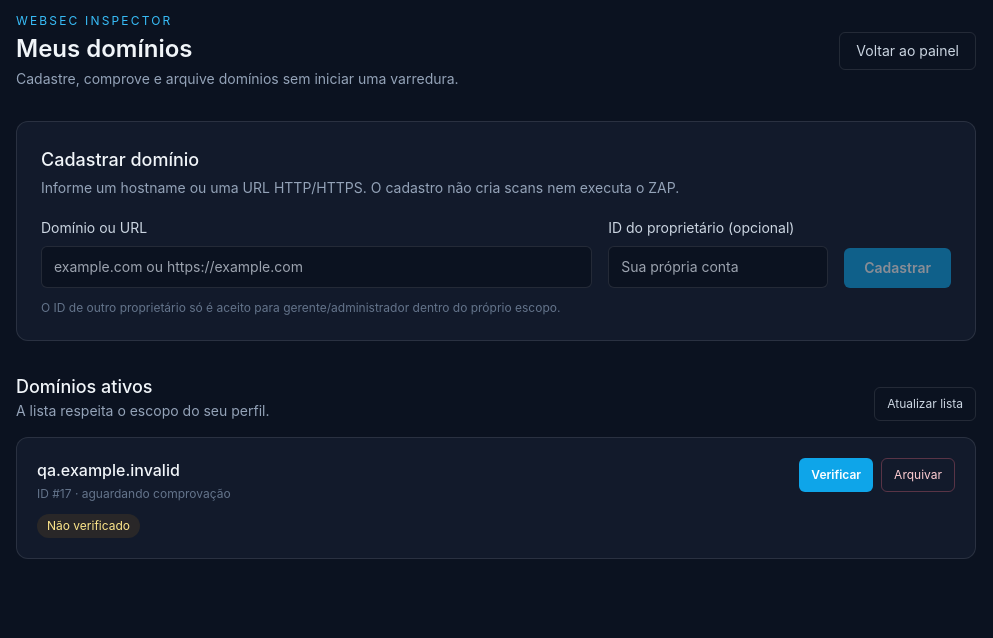
Test case: Meus domínios › verificação pendente informa que nenhum scan foi enfileirado
The width and height of the screenshot is (993, 638).
Click the button "Verificar".
click(836, 475)  # box 799,458 -> 873,492
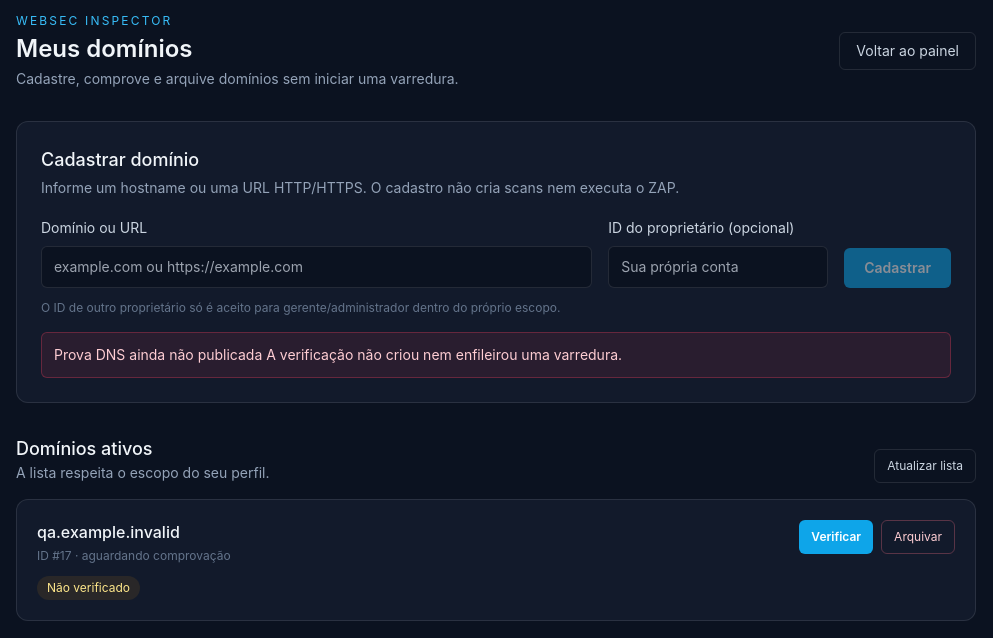
Expected: the message shows "Prova DNS ainda não publicada", 54,346 -> 622,363
Expected: the message shows "não criou nem enfileirou uma varredura", 54,346 -> 622,363
